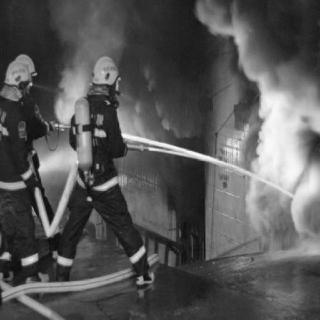Smoke: (235, 0, 319, 244), (130, 7, 204, 204)
other: (1, 49, 38, 89), (85, 52, 123, 86), (89, 172, 120, 194), (19, 248, 41, 268), (129, 242, 147, 266), (56, 250, 74, 272)
